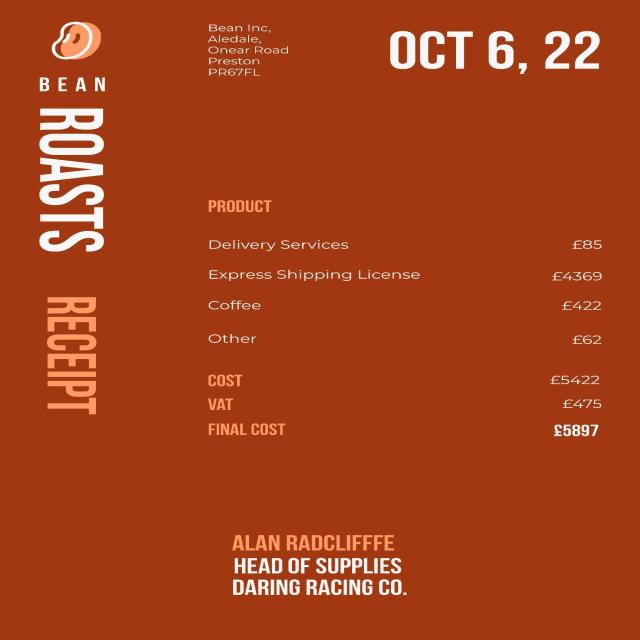paragraph: (192, 194, 622, 352), (7, 18, 141, 422), (191, 365, 614, 450), (212, 525, 417, 613), (371, 19, 614, 83), (176, 16, 301, 86)
